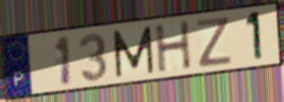1: (242, 9, 265, 64), (53, 33, 75, 86)
3: (77, 30, 109, 84)
H: (153, 19, 194, 75)
M: (111, 24, 157, 80)
Z: (195, 15, 233, 70)
